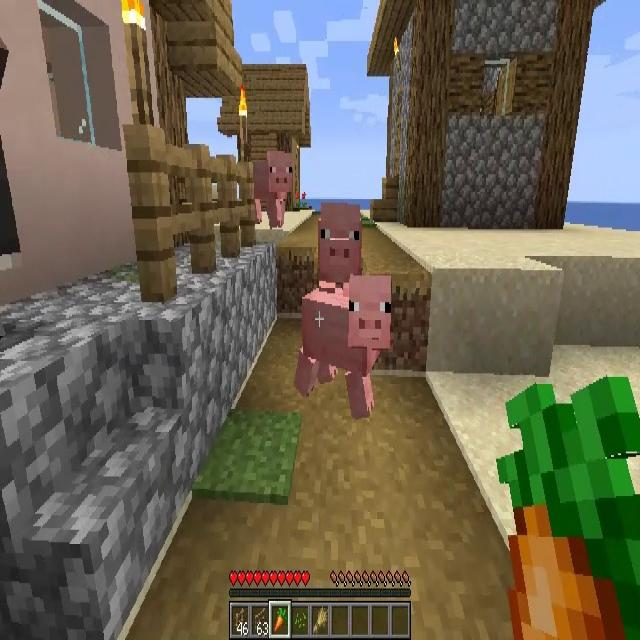pig: (298, 277, 393, 420), (316, 198, 363, 282), (250, 151, 292, 225)
